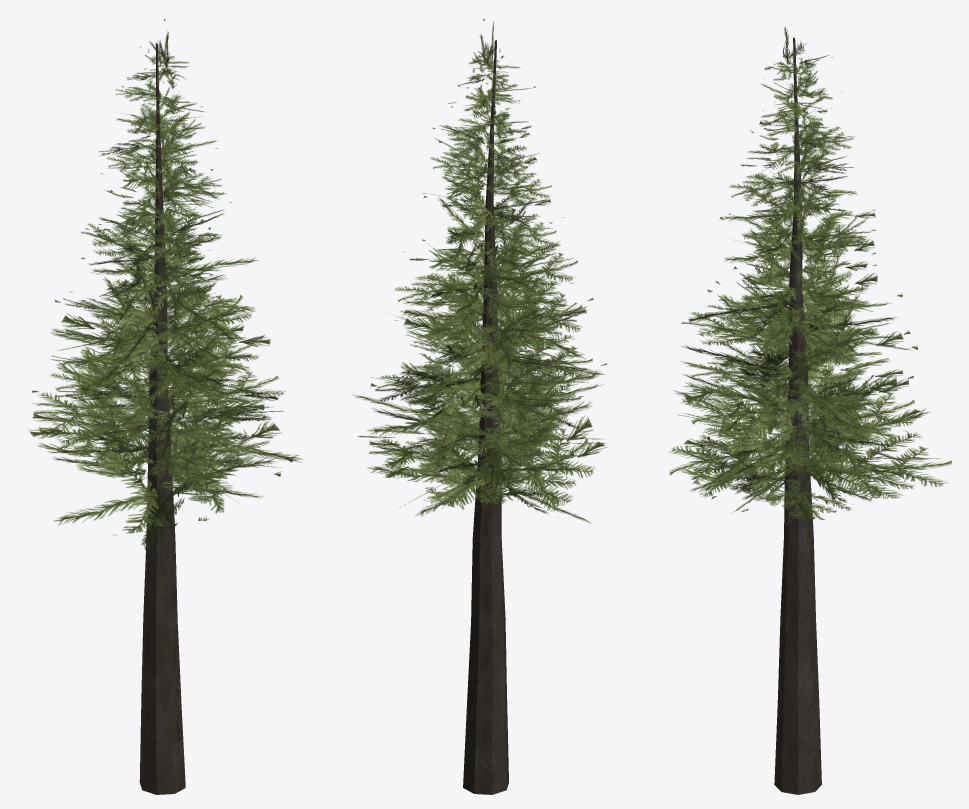
Rendered from prop_tree_pine_a.glb.
3 views of the same model, side by side, from view 1: azimuth 30°, elevation 25°; view 2: azimuth 150°, elevation 25°; view 3: azimuth 270°, elevation 25° (orthographic).
Visible parts, largest first — view 1: conifer_pine_11; view 2: conifer_pine_11; view 3: conifer_pine_11.
Part boxes in pixels (box(x1,y1,x2,y2)): conifer_pine_11: box(28, 19, 303, 794); conifer_pine_11: box(351, 19, 607, 794); conifer_pine_11: box(668, 27, 951, 794).
Bounding box in the file's own units: 5.65 × 16.45 × 5.77.
2 materials, 2 textured.
